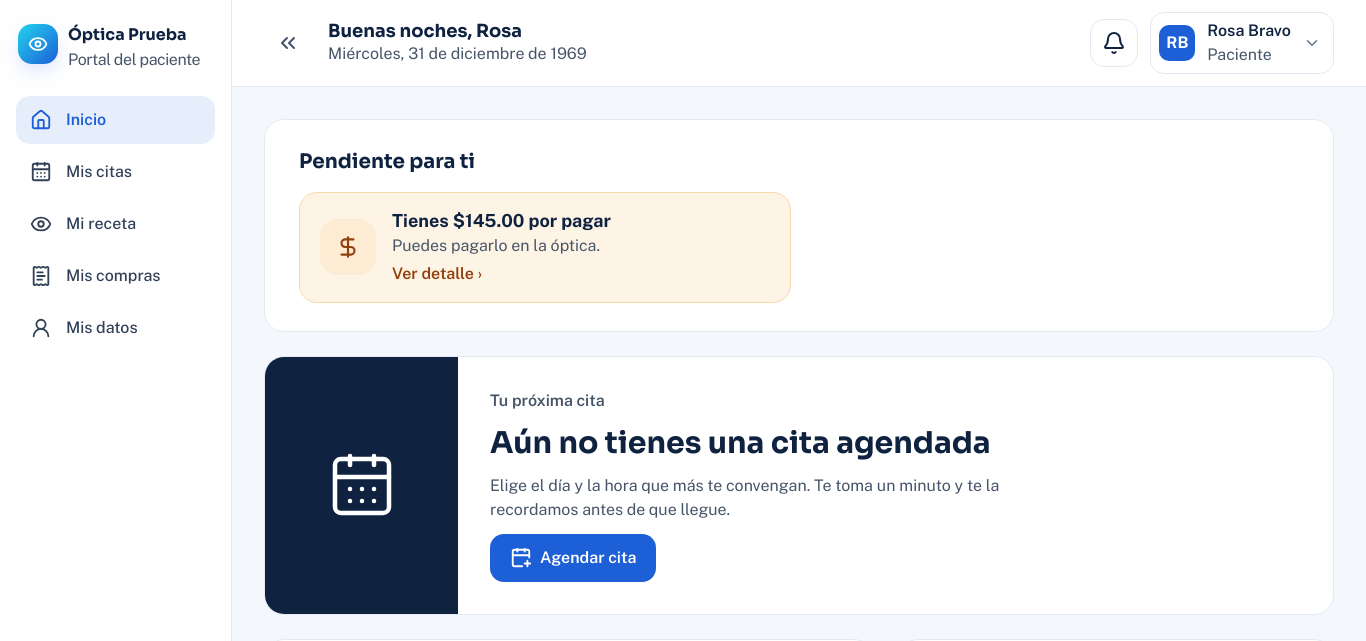
Test: Resumen › «Pendiente para ti» avisa del saldo, con lo que se debe, y lleva al detalle de sus abonos
Expected: the element "Pendiente para ti" shows "Tienes $145.00 por pagar", 392,210 -> 611,231
Expected: the element "Pendiente para ti" shows "Puedes pagarlo en la óptica.", 392,236 -> 600,255
Click the button named "Tienes $145.00 por pagar" at (545, 247), box 300,193 -> 790,302
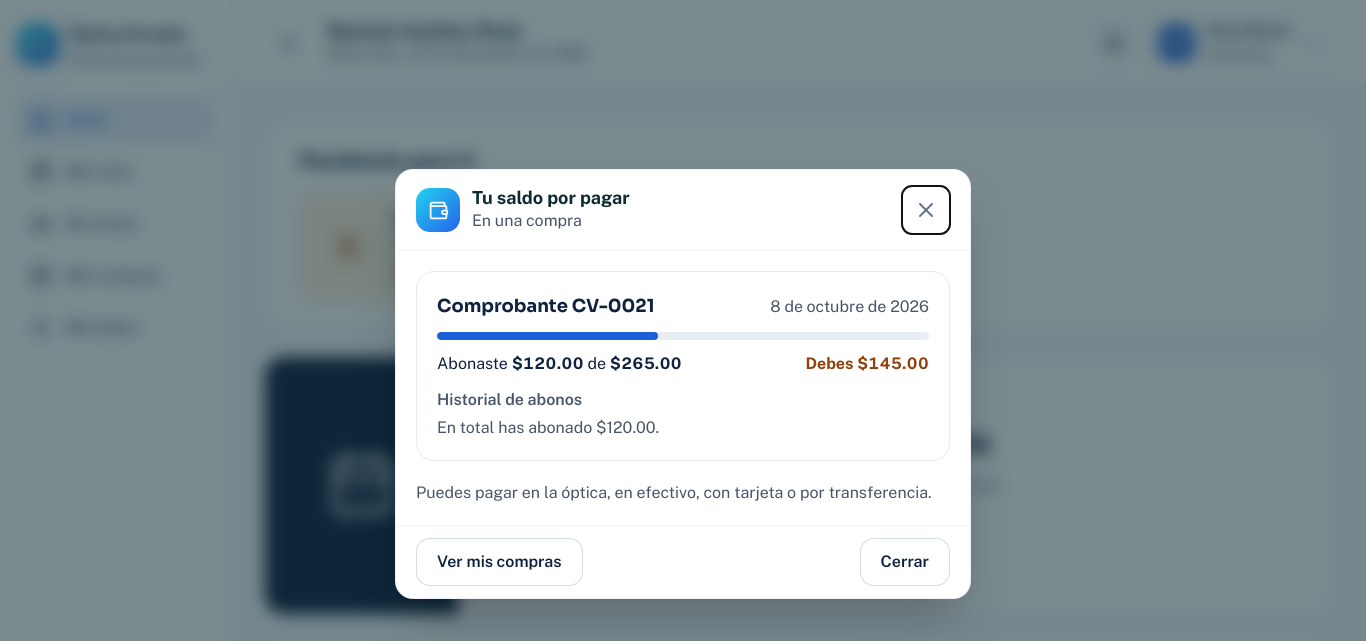
Now the dialog "Tu saldo por pagar" shows "Abonaste $120.00 de $265.00", box 395,169 -> 971,599
